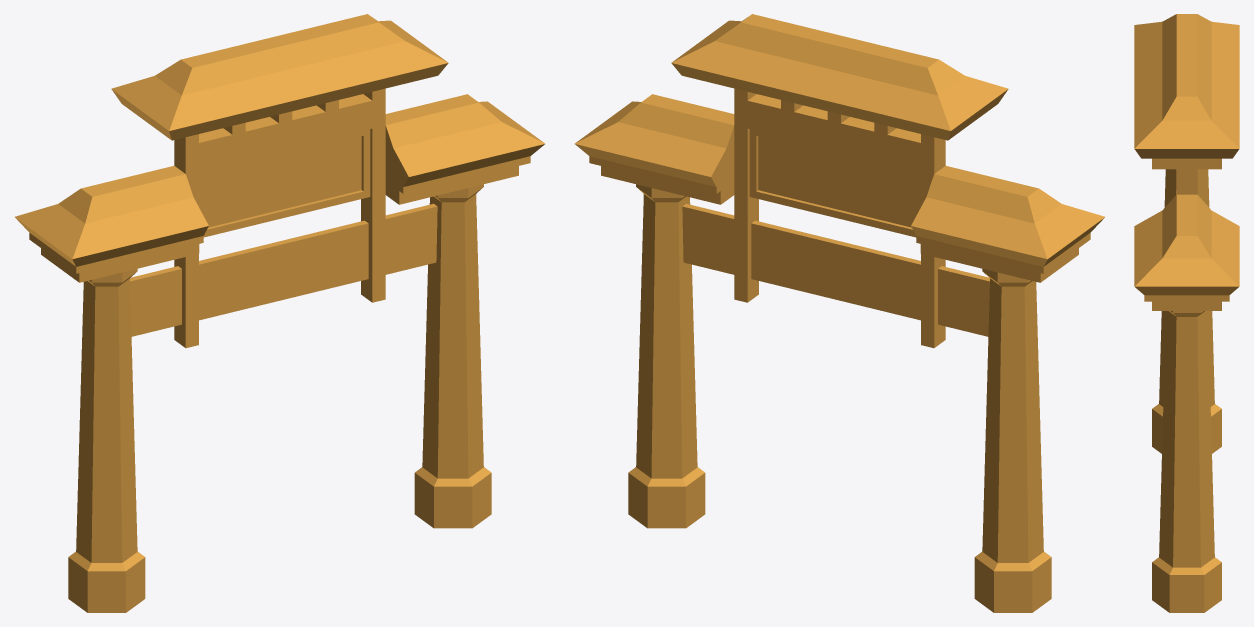
Rendered from gate-china.glb.
The picture shows the model from 3 angles, left to right: view 1: azimuth 30°, elevation 25°; view 2: azimuth 150°, elevation 25°; view 3: azimuth 270°, elevation 25°; orthographic projection. The views are drawn at different scales.
Parts seen in each view (by area): view 1: gate-china; view 2: gate-china; view 3: gate-china.
Part boxes in pixels (x1,y1,x2,y2): gate-china: (15,14,545,612); gate-china: (574,14,1104,612); gate-china: (1134,14,1239,612).
Size of the model in its own units: 7.11 by 7.4 by 1.51.
